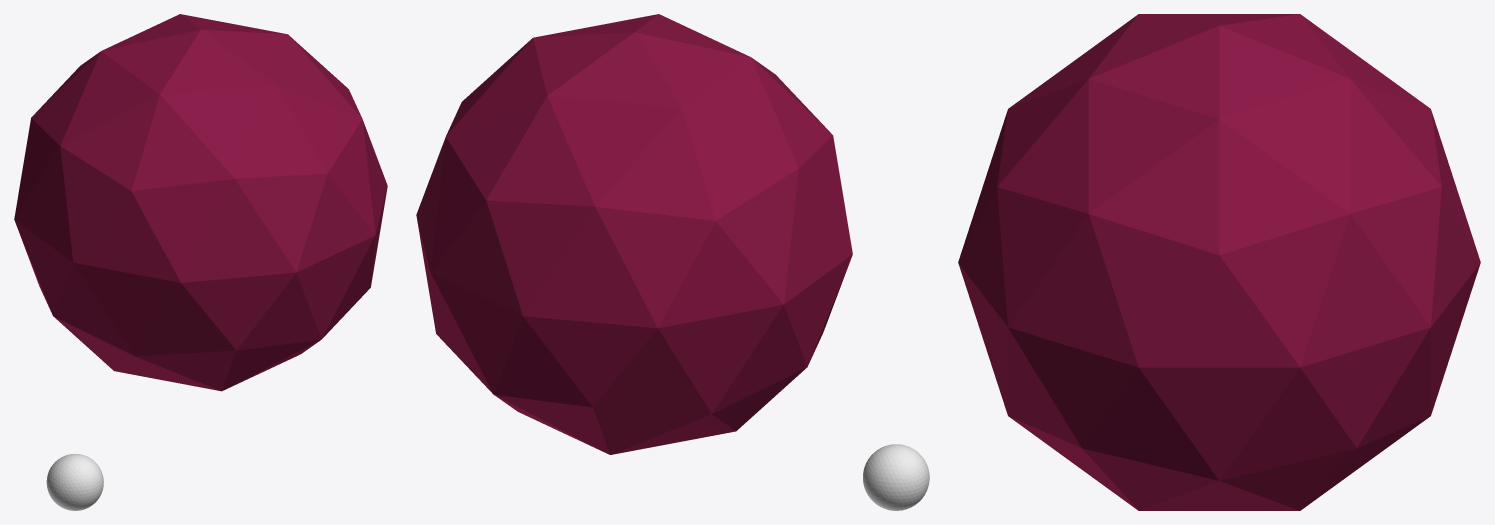
Rendered from pain2.gltf.
3 renders of one model, left to right at view 1: azimuth 30°, elevation 25°; view 2: azimuth 150°, elevation 25°; view 3: azimuth 270°, elevation 25°, orthographic. The views are drawn at different scales.
Parts seen in each view (by area): view 1: Icosphere.001, Icosphere; view 2: Icosphere.001, Icosphere; view 3: Icosphere.001.
Part boxes in pixels (<box>): Icosphere.001: <box>14,14,387,391</box>; Icosphere: <box>46,454,103,510</box>; Icosphere.001: <box>416,14,852,454</box>; Icosphere: <box>863,444,929,510</box>; Icosphere.001: <box>958,14,1480,510</box>.
Size of the model in its own units: 2.16 by 2.31 by 2.
